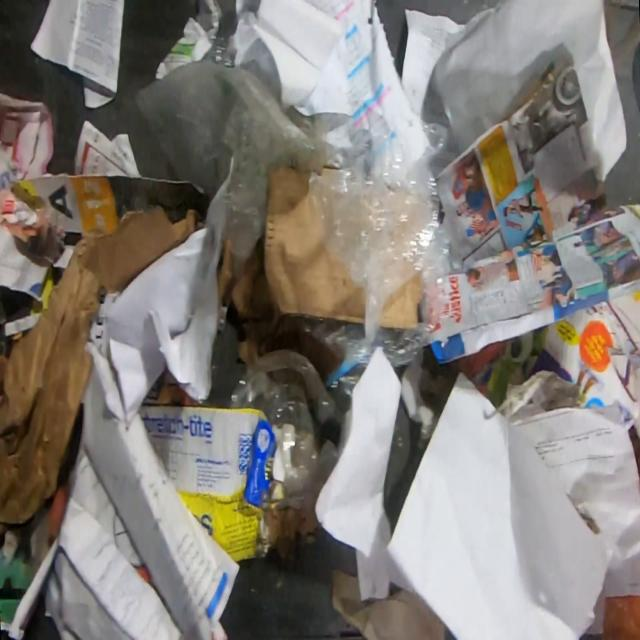cardboard: (0, 205, 204, 534), (137, 404, 285, 564), (11, 172, 211, 271), (262, 163, 365, 322), (380, 269, 422, 327)
rigid_plastic: (228, 348, 351, 511)
soft_plastic: (132, 58, 367, 311), (298, 122, 454, 415), (601, 592, 640, 640)
